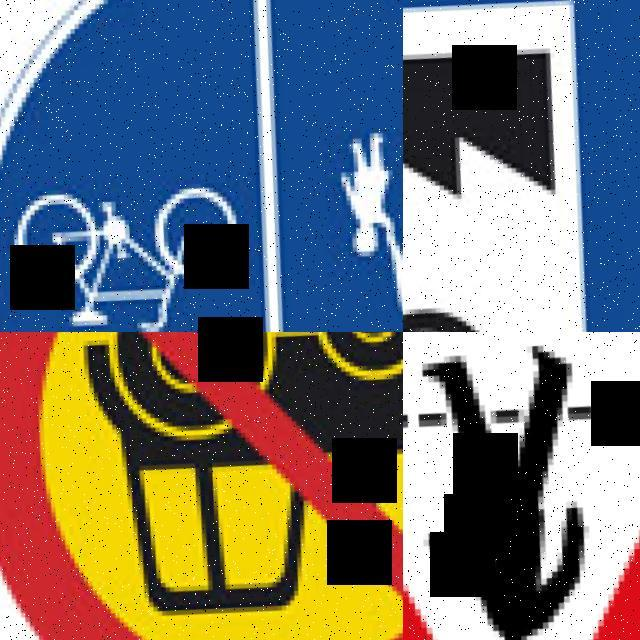48: (0, 332, 403, 640)
59: (403, 0, 640, 332)
99: (0, 0, 403, 332)
Pedestrian crossing: (403, 332, 640, 640)
